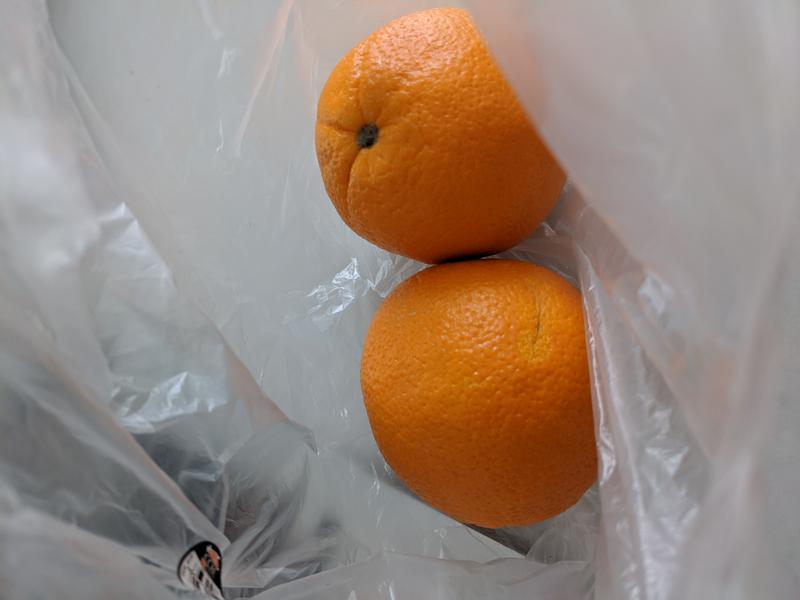orange: (360, 256, 610, 530), (314, 7, 568, 262)
